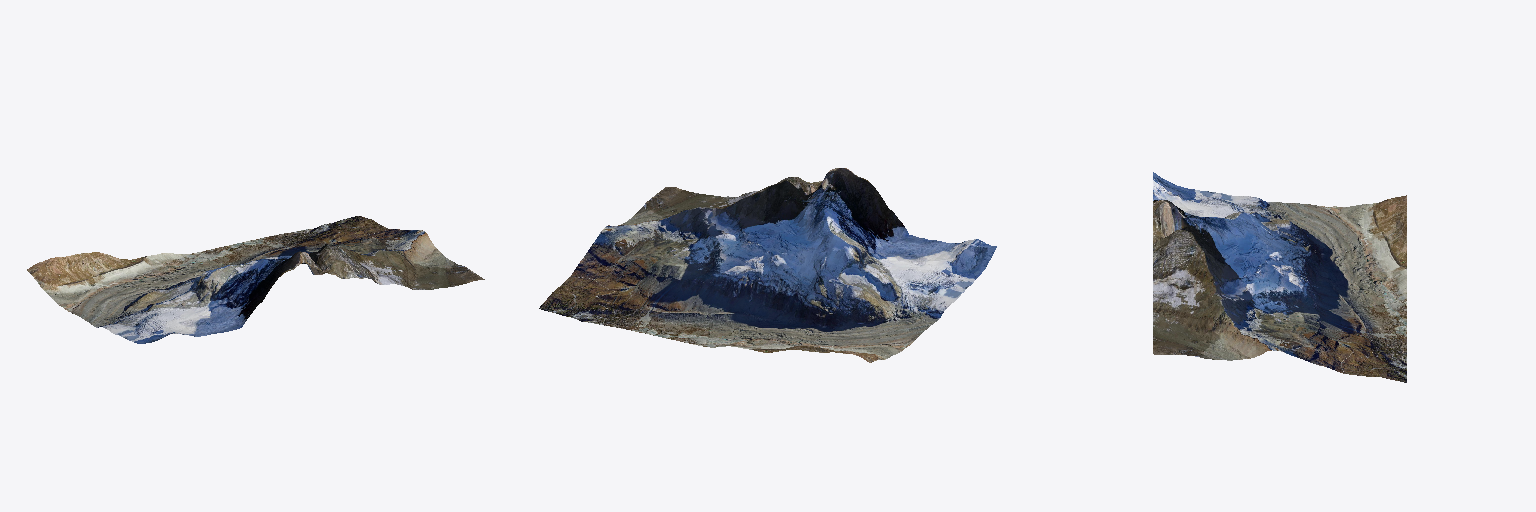
The picture shows the model from 3 angles: view 1: azimuth 30°, elevation 25°; view 2: azimuth 150°, elevation 25°; view 3: azimuth 270°, elevation 25°; orthographic projection.
Visible parts, largest first — view 1: EXPORT_GOOGLE_SAT_WM.018; view 2: EXPORT_GOOGLE_SAT_WM.018; view 3: EXPORT_GOOGLE_SAT_WM.018.
Boxes of the visible parts, x1=… form: EXPORT_GOOGLE_SAT_WM.018: x1=27, y1=216, x2=484, y2=343; EXPORT_GOOGLE_SAT_WM.018: x1=539, y1=168, x2=996, y2=362; EXPORT_GOOGLE_SAT_WM.018: x1=1153, y1=172, x2=1406, y2=382.
Bounding box in the file's own units: 9124 × 2573 × 6083.
Materials: 1 (1 with a texture image).